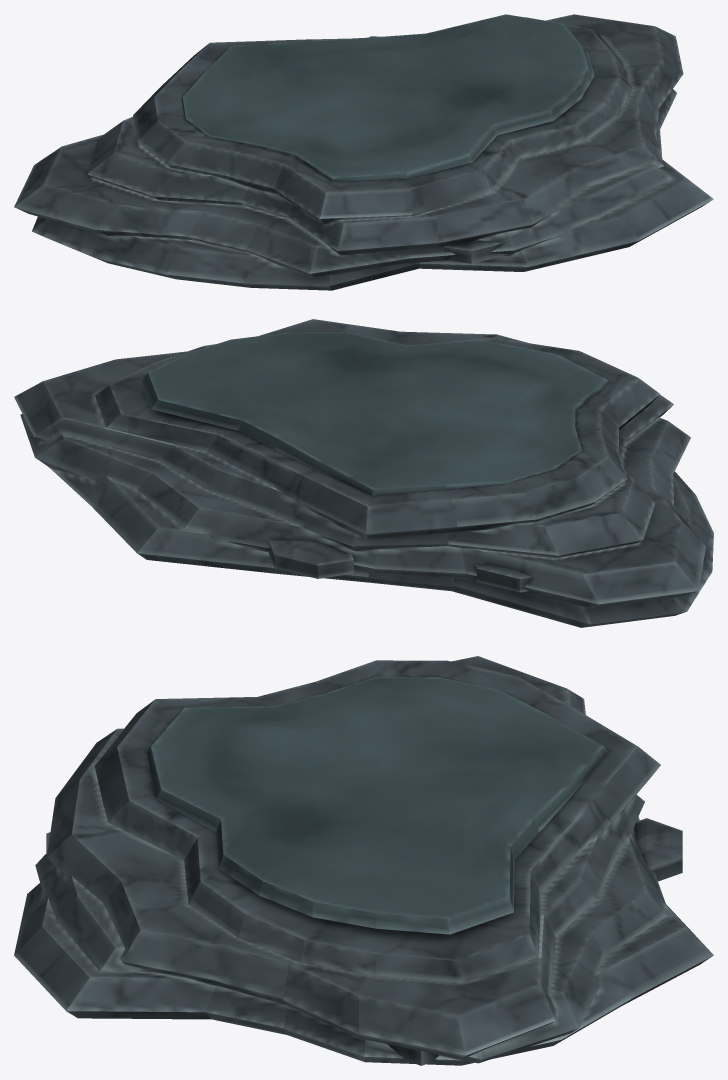
File: underworld-flora-blackwater-lakebed-shelf.glb
The picture shows the model from 3 angles, top to bottom: view 1: azimuth 30°, elevation 25°; view 2: azimuth 150°, elevation 25°; view 3: azimuth 270°, elevation 25°; orthographic projection. The views are drawn at different scales.
Parts seen in each view (by area): view 1: shelf-strata, mineral-crust, detached-chips; view 2: shelf-strata, mineral-crust, detached-chips; view 3: shelf-strata, mineral-crust, detached-chips.
Boxes of the visible parts, x1,y1,x2,y2 form: shelf-strata: [14, 14, 713, 290]; mineral-crust: [182, 14, 594, 181]; detached-chips: [443, 240, 508, 263]; shelf-strata: [14, 319, 713, 627]; mineral-crust: [140, 331, 609, 495]; detached-chips: [268, 539, 532, 592]; shelf-strata: [14, 656, 713, 1065]; mineral-crust: [147, 676, 607, 934]; detached-chips: [46, 818, 682, 1065].
Bounding box in the file's own units: 2.58 × 0.3843 × 1.84.
2 materials, 2 textured.
